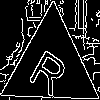R: (26, 40, 75, 98)
